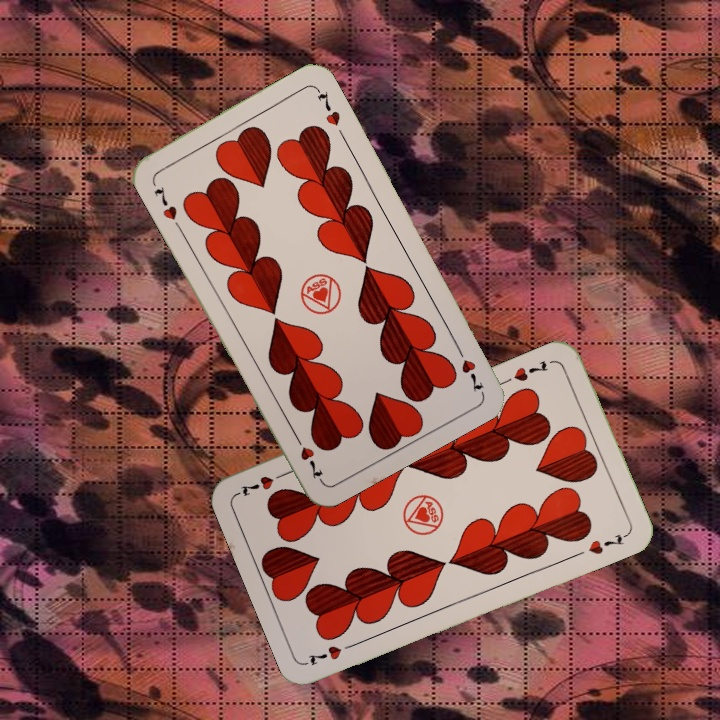H7: (452, 340, 486, 395), (303, 638, 360, 668), (150, 182, 180, 223), (509, 356, 551, 384)
